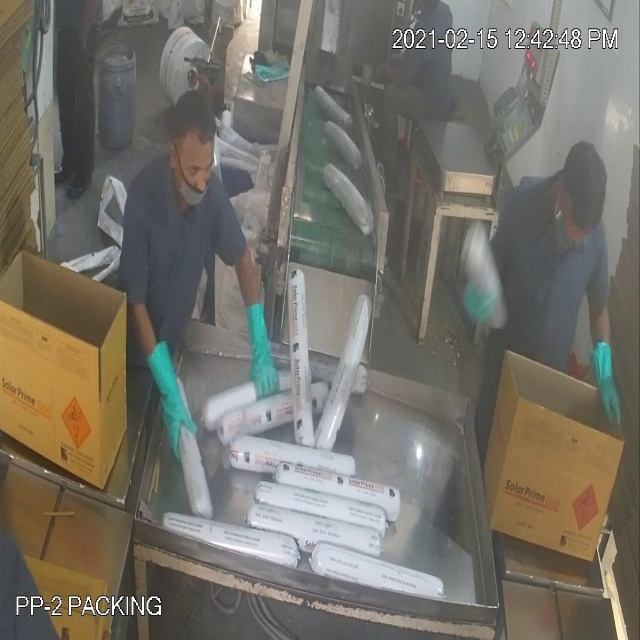Guantes: (240, 282, 288, 431), (149, 316, 193, 466), (589, 323, 624, 429)
Sin_guantes: (369, 53, 429, 104)
